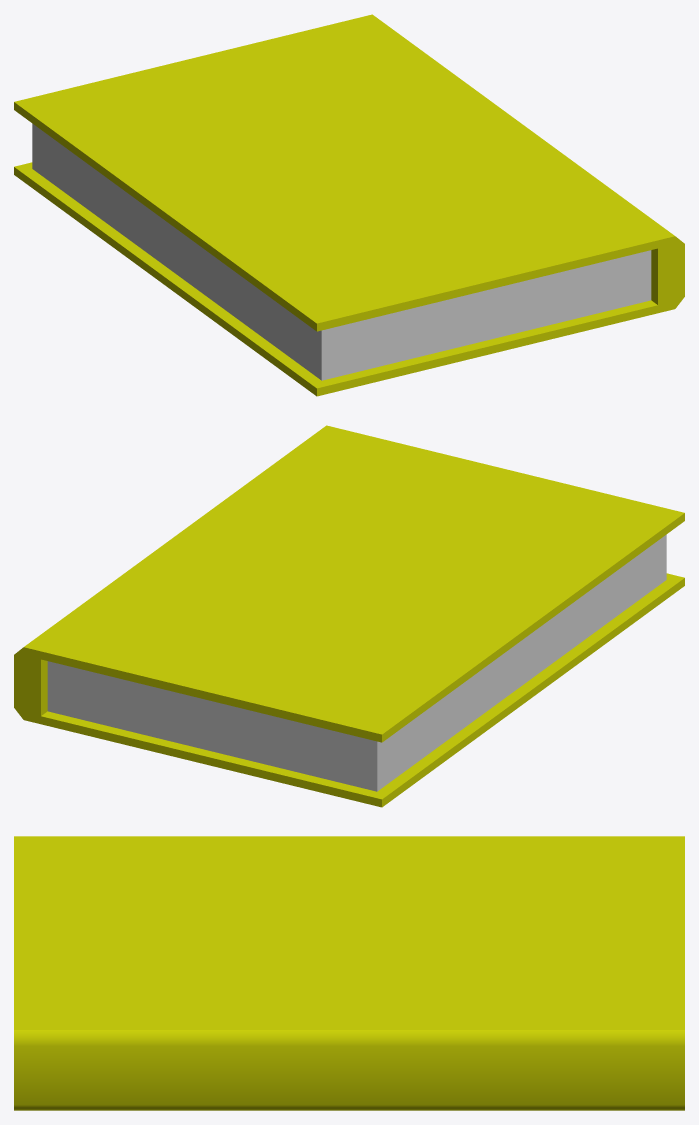
File: Book_Yellow.fbx
3 renders of one model, top to bottom at view 1: azimuth 30°, elevation 25°; view 2: azimuth 150°, elevation 25°; view 3: azimuth 270°, elevation 25°, orthographic. The views are drawn at different scales.
Visible parts, largest first — view 1: Book_Yellow; view 2: Book_Yellow; view 3: Book_Yellow.
Boxes of the visible parts, left/top/right/bottom form: Book_Yellow: left=14, top=14, right=684, bottom=396; Book_Yellow: left=14, top=425, right=684, bottom=807; Book_Yellow: left=14, top=836, right=684, bottom=1110.
Size of the model in its own units: 19.09 by 3.61 by 27.21.
